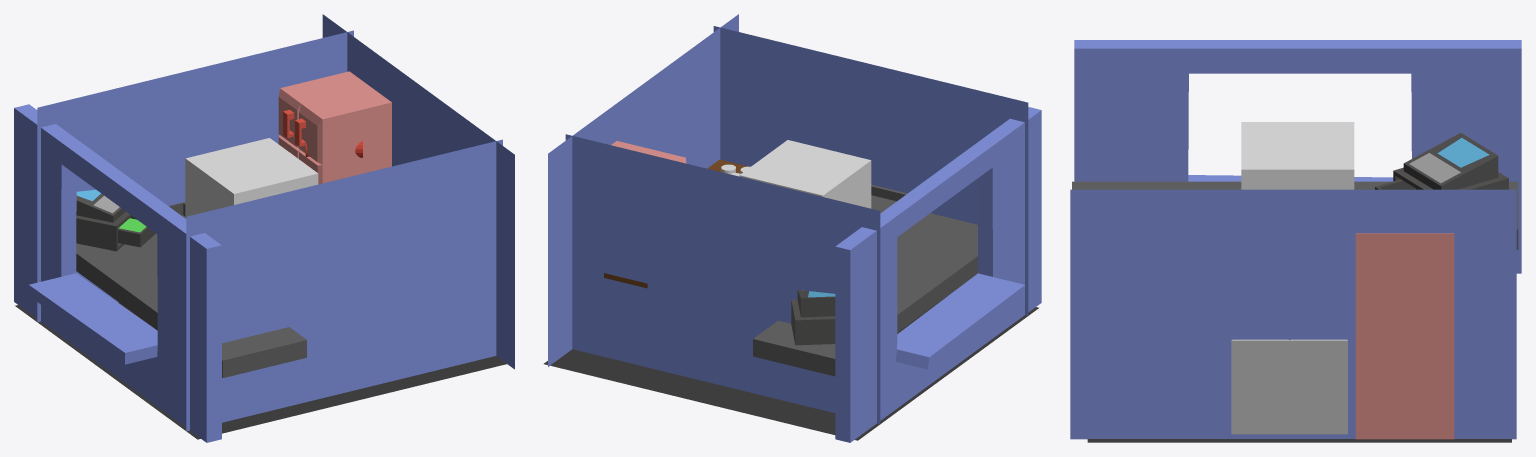
The model's file is vrburguer.fbx.
The picture shows the model from 3 angles, left to right: view 1: azimuth 30°, elevation 25°; view 2: azimuth 150°, elevation 25°; view 3: azimuth 270°, elevation 25°; orthographic projection. The views are drawn at different scales.
Parts seen in each view (by area): view 1: Plane.005, Plane, Plane.004, Plane.006, Cube.003, Cube.002, Cube, Plane.003, Cube.006; view 2: Plane.004, Plane, Plane.005, Plane.006, Cube.002, Plane.003, Cube, Cube.006, Cube.012; view 3: Plane.006, Plane, Cube.003, Cube, Cube.005, Cube.015, Cube.006, Cube.002, Plane.003.
Boxes of the visible parts, <box> form: Plane.005: <box>186,139,502,431</box>; Plane: <box>14,104,221,442</box>; Plane.004: <box>37,30,353,322</box>; Plane.006: <box>322,14,514,369</box>; Cube.003: <box>278,71,391,184</box>; Cube.002: <box>76,233,306,377</box>; Cube: <box>185,138,318,218</box>; Plane.003: <box>15,302,506,439</box>; Cube.006: <box>76,189,155,251</box>; Plane.004: <box>565,134,880,424</box>; Plane: <box>835,107,1041,442</box>; Plane.005: <box>713,26,1028,315</box>; Plane.006: <box>548,14,738,366</box>; Cube.002: <box>753,213,977,376</box>; Plane.003: <box>544,296,1038,440</box>; Cube: <box>739,140,871,208</box>; Cube.006: <box>791,289,835,345</box>; Cube.012: <box>871,186,907,213</box>; Plane.006: <box>1070,189,1516,439</box>; Plane: <box>1074,40,1521,273</box>; Cube.003: <box>1355,233,1454,439</box>; Cube: <box>1241,122,1354,189</box>; Cube.005: <box>1231,339,1289,434</box>; Cube.015: <box>1289,339,1347,434</box>; Cube.006: <box>1375,133,1508,189</box>; Cube.002: <box>1072,181,1518,249</box>; Plane.003: <box>1087,439,1511,442</box>.
Bounding box in the file's own units: 410 × 244 × 399.
